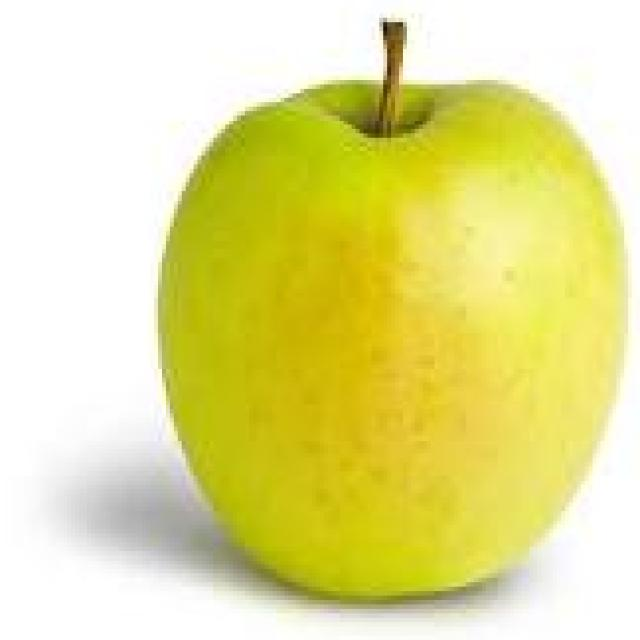apple: (142, 0, 640, 604)
